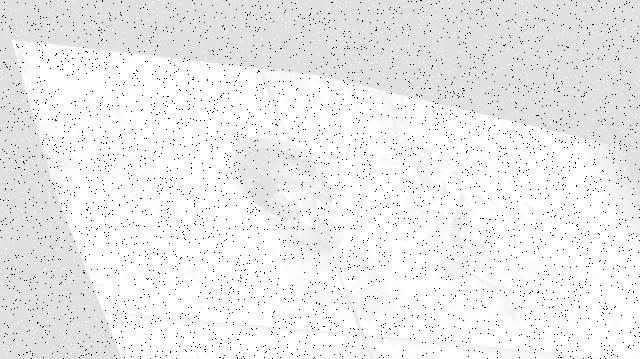pot: (228, 136, 342, 251)
